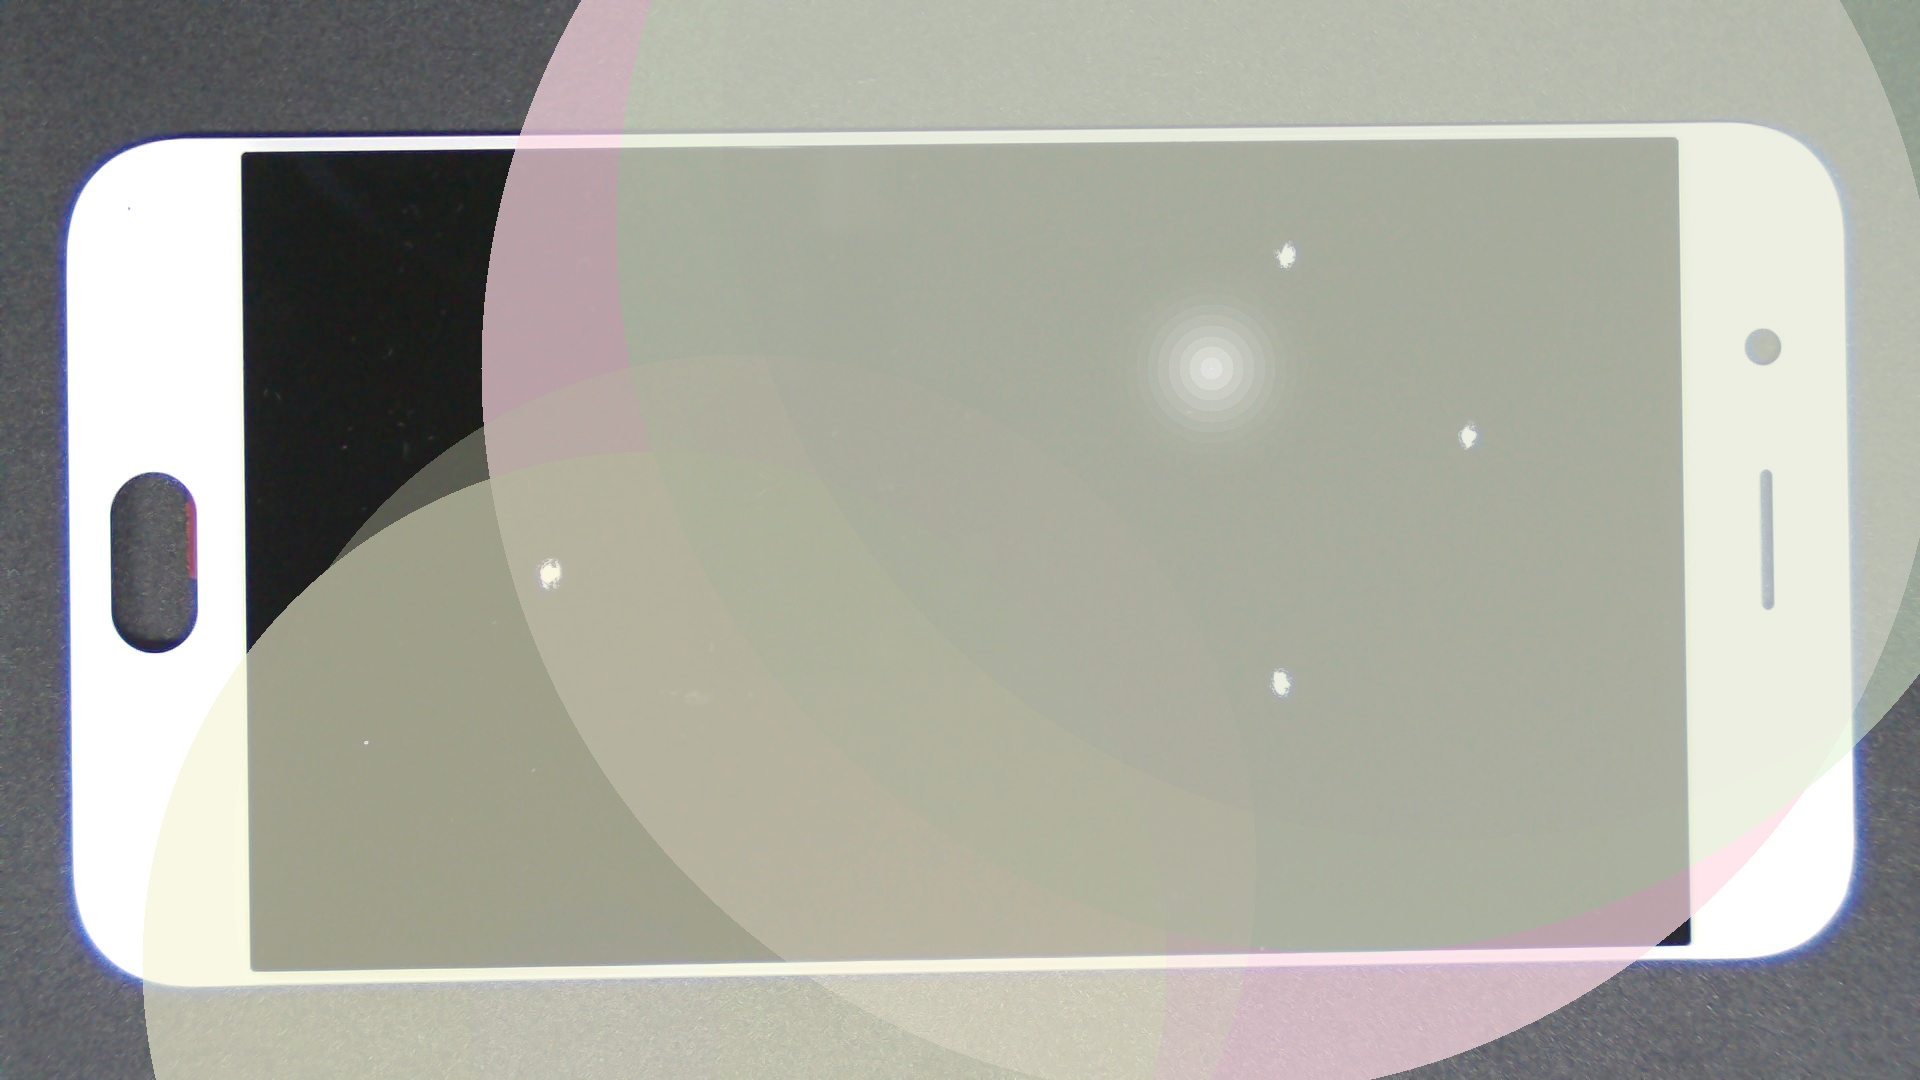oil: (640, 332, 1915, 1000), (735, 208, 1920, 628), (644, 117, 1920, 357), (273, 278, 815, 836)
